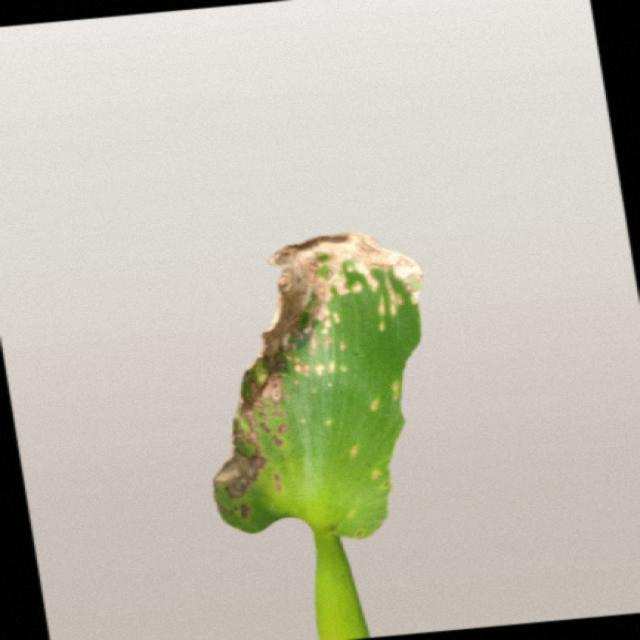daun berpenyakit bercak: (213, 233, 423, 640)
